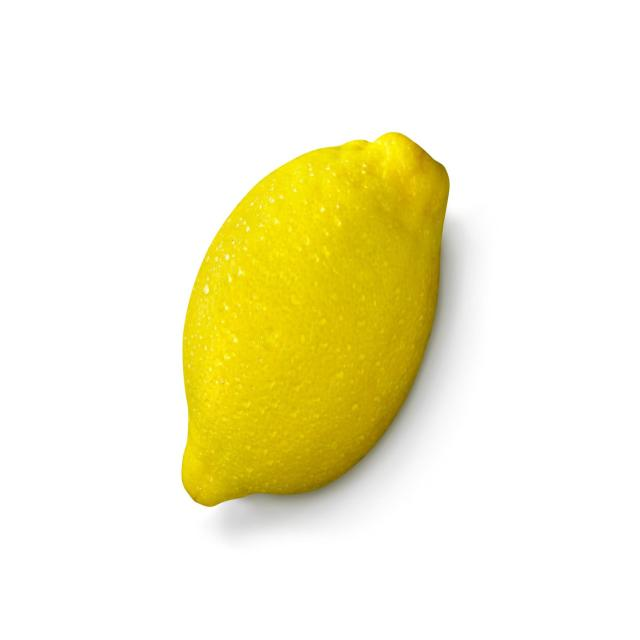lemon: (178, 126, 452, 511)
